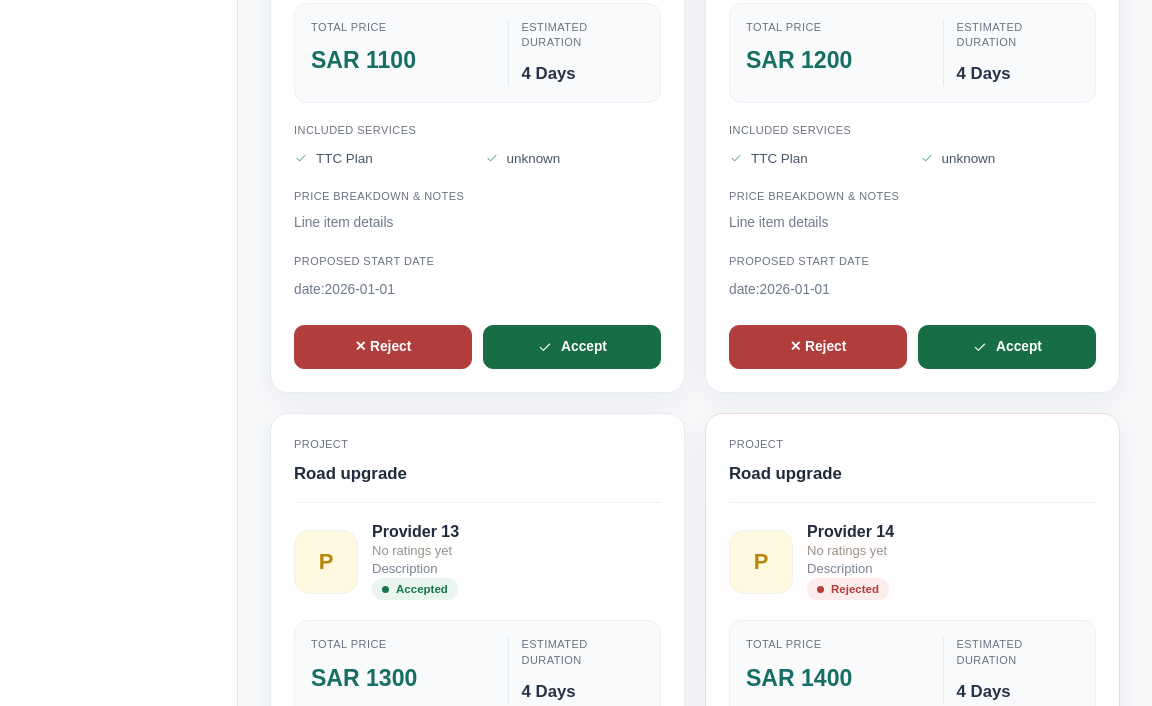
it: QuotationsPage: aggregation, filters, compare, accept and reject › rejects a quotation and shows a rejection error
(page scrolled)
Click the button "✕ Reject" below "SAR 1100" at (383, 347), box [294,325,472,369]
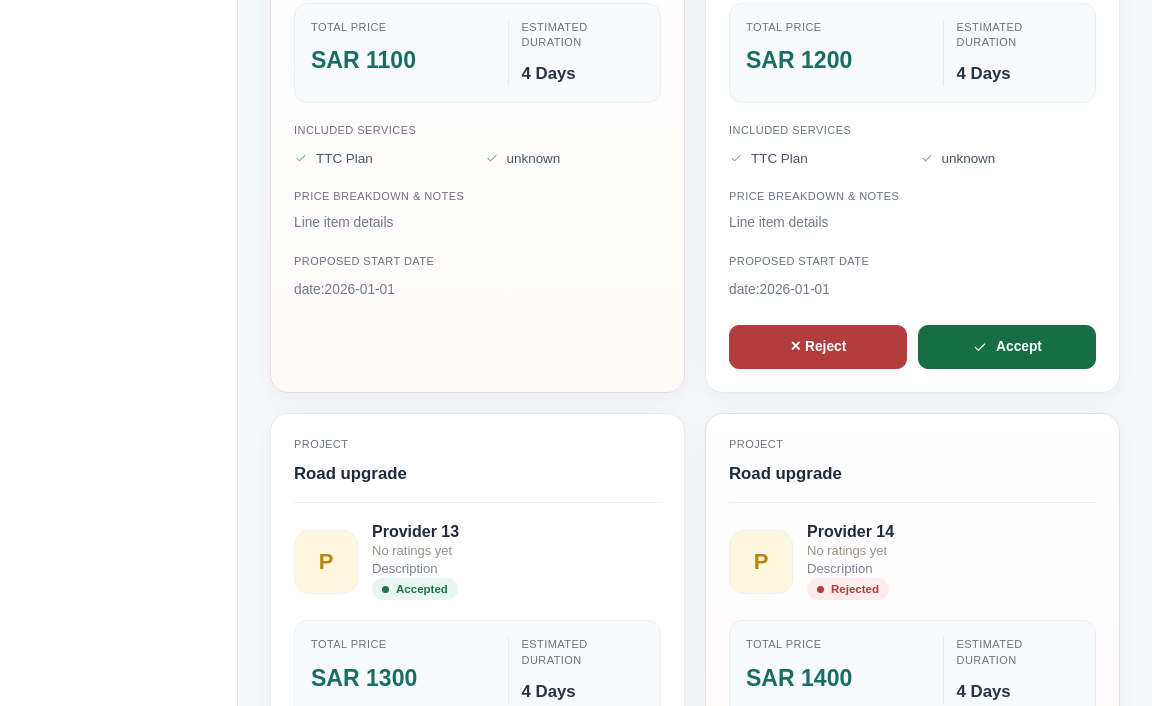
Click the button "✕ Reject" at (818, 347), box [729,325,907,369]
(page scrolled)
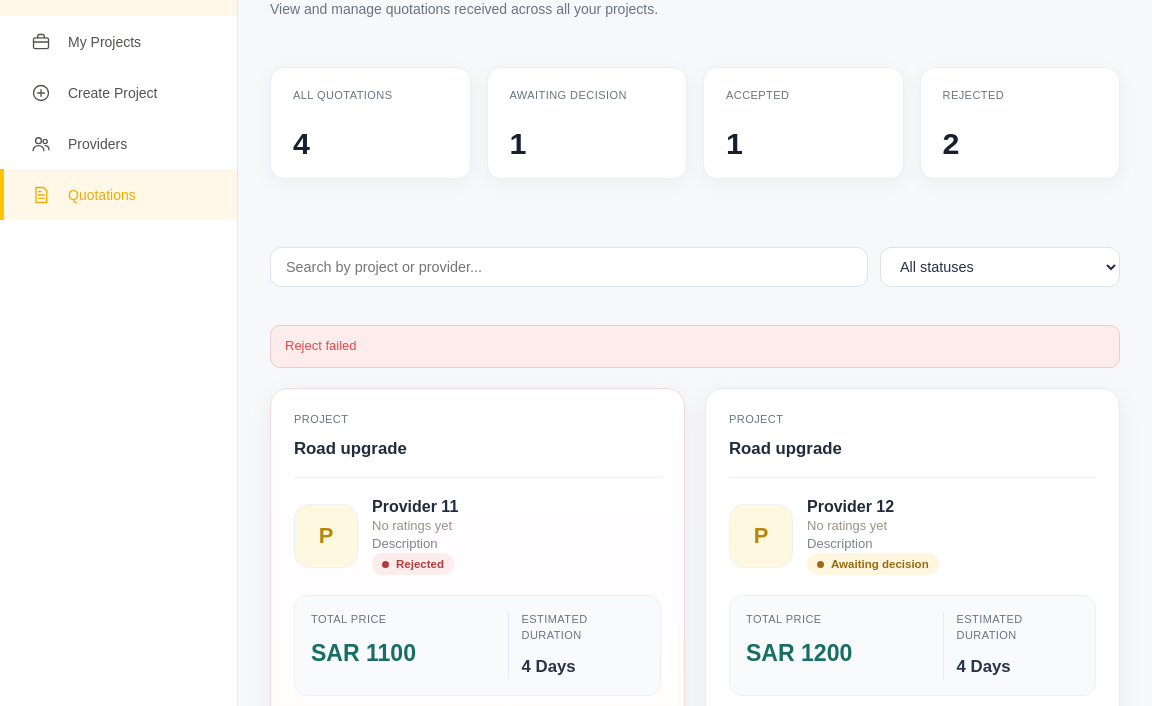
Result: the message reads "Reject failed" at [285,338,356,353]
